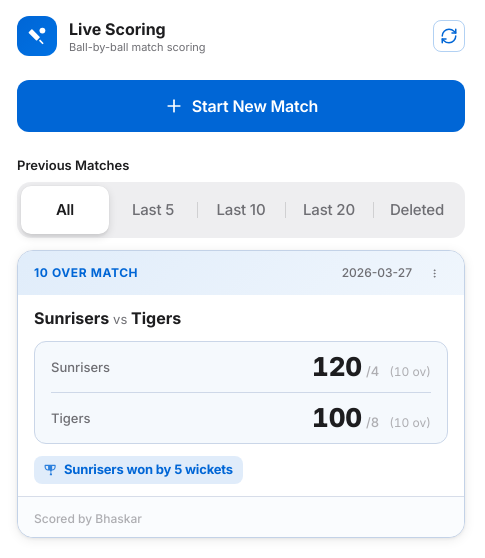
Test case: MatchCard + ScoringLanding › three-dot menu shows Delete option for admin users
# Click the three-dot menu button
Click the button titled "Options": coordinates (434, 273) [420, 259, 448, 287]
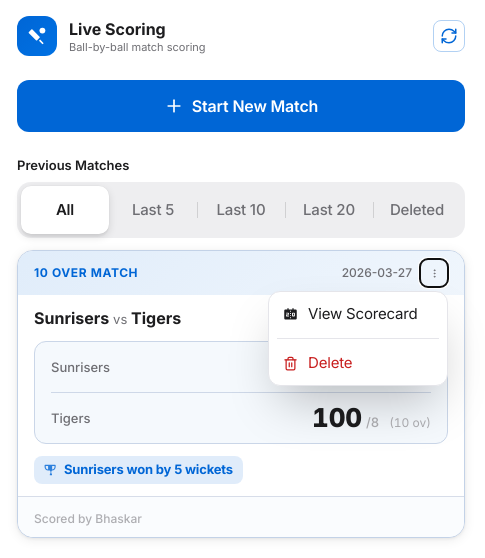
Result: the button "Delete" is shown at [269, 341, 447, 385]
Result: the button "View Scorecard" is shown at [269, 292, 447, 336]
